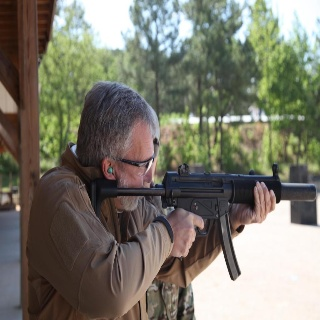rifle: (91, 162, 318, 281)
